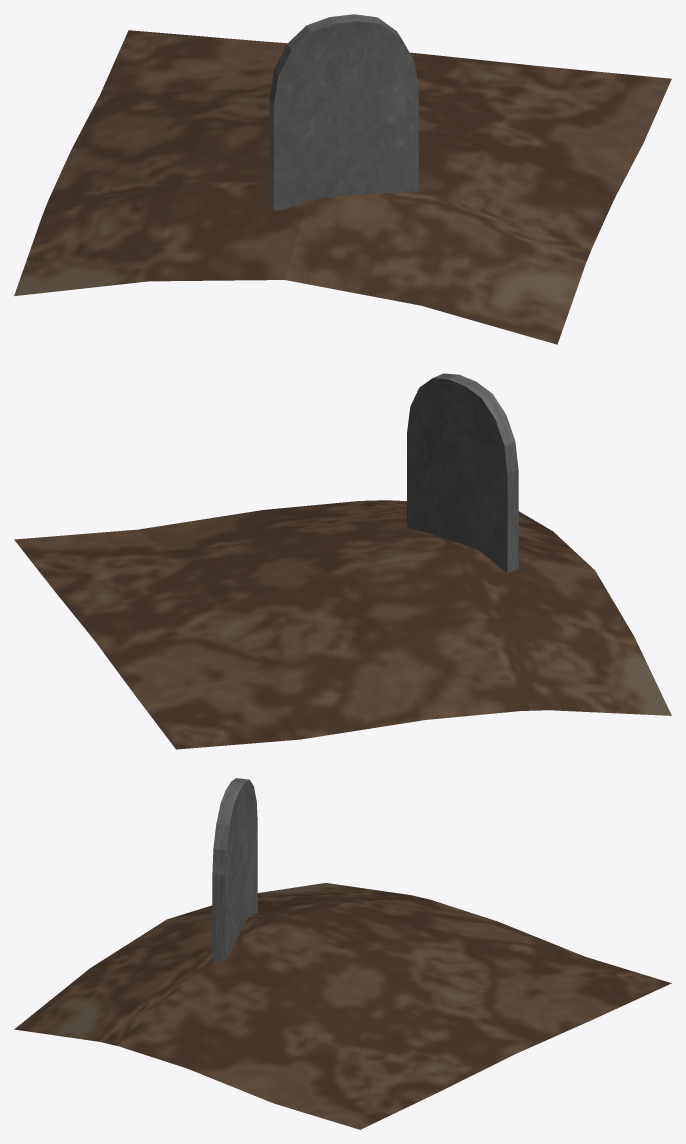
Rendered from Tumba4.obj.
The picture shows the model from 3 angles, top to bottom: view 1: azimuth 30°, elevation 25°; view 2: azimuth 150°, elevation 25°; view 3: azimuth 270°, elevation 25°; orthographic projection. The views are drawn at different scales.
Parts seen in each view (by area): view 1: Plane.004_Plane.003; view 2: Plane.004_Plane.003; view 3: Plane.004_Plane.003.
Part boxes in pixels (x1,y1,x2,y2): Plane.004_Plane.003: [14, 14, 671, 344]; Plane.004_Plane.003: [14, 373, 671, 749]; Plane.004_Plane.003: [14, 778, 671, 1129].
Bounding box in the file's own units: 1.66 × 0.5846 × 1.66.
2 materials, 2 textured.
